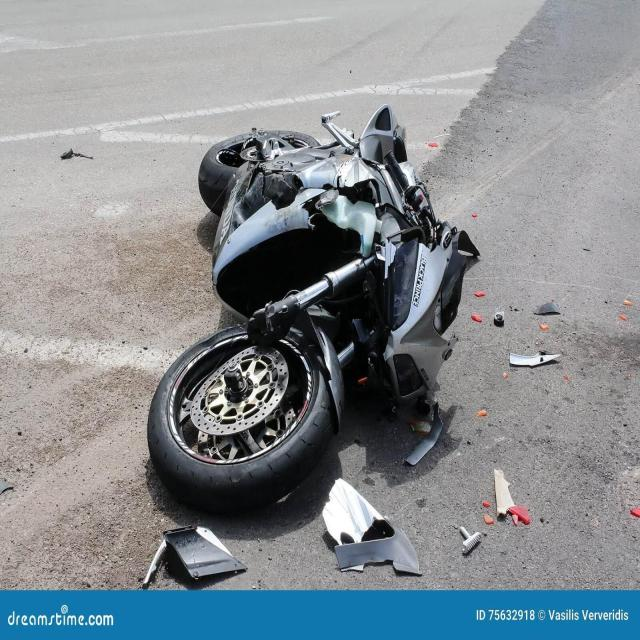accident: (148, 104, 479, 512)
